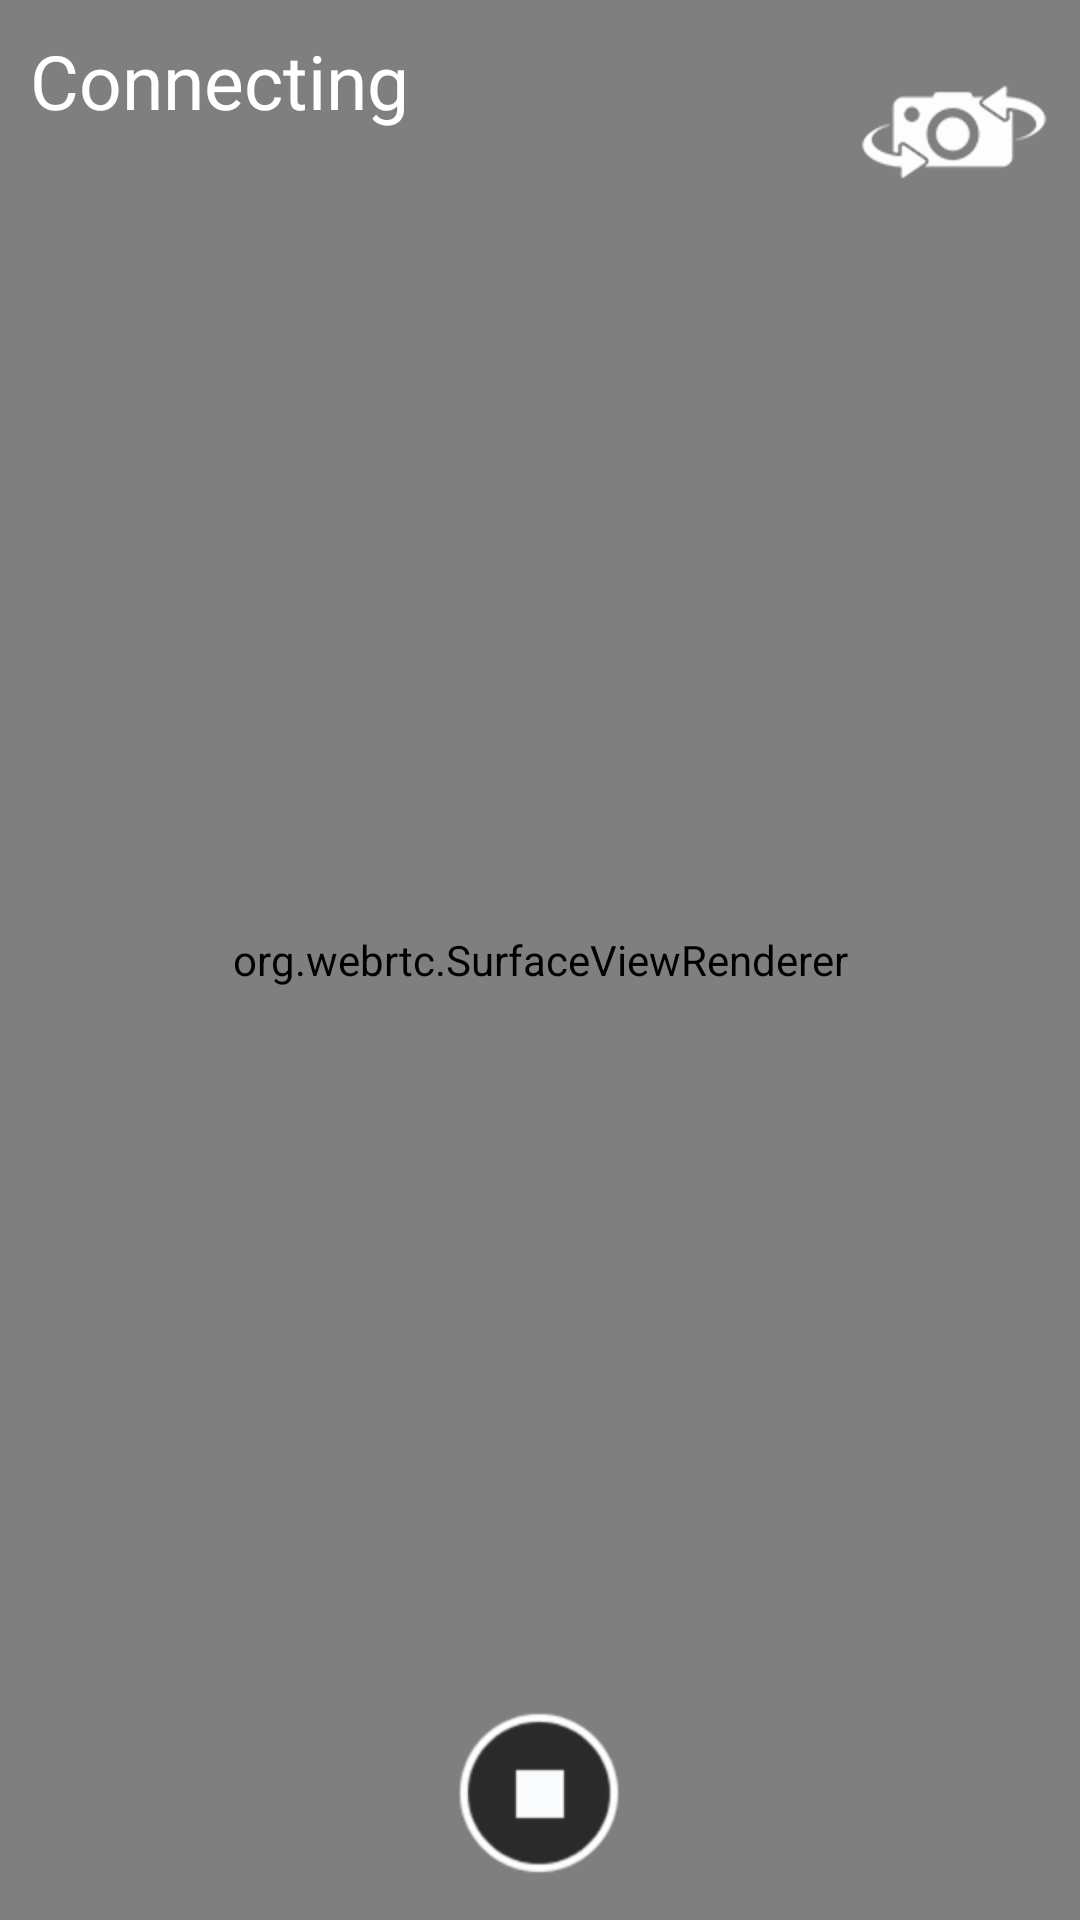

Named icons in this screenshot (1080w x 1920h) and their centers, [x,y]:
stop: [539,1793]
switch: [954,132]
